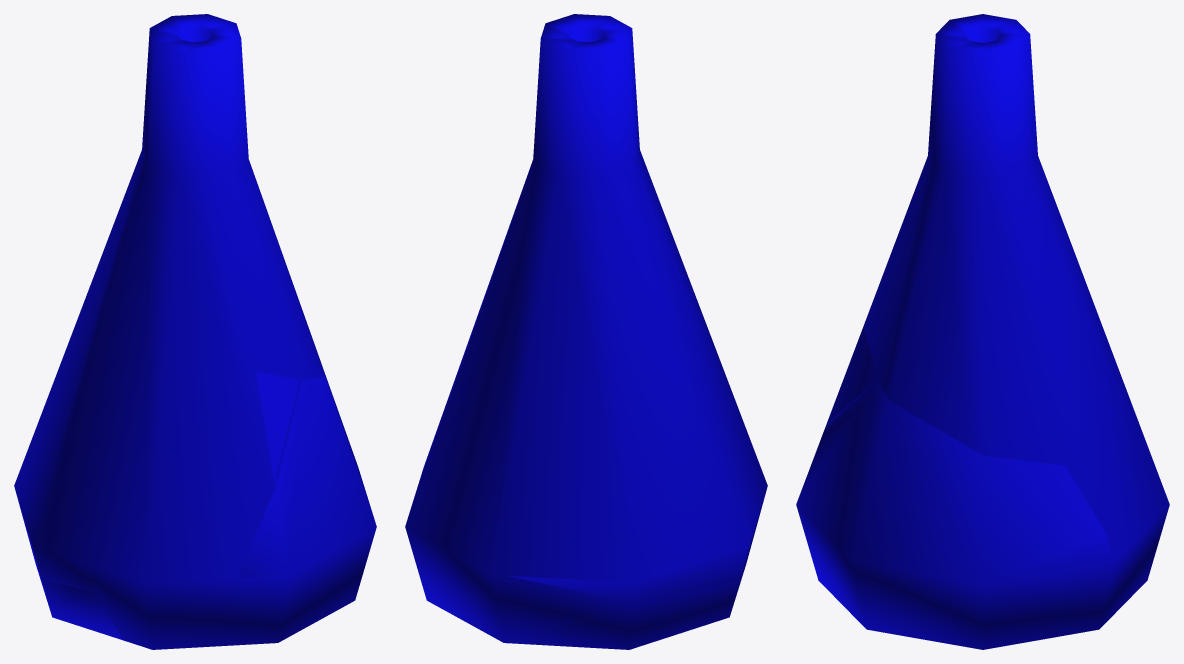
Rendered from Lab_ConicalFlask1.fbx.
The picture shows the model from 3 angles, left to right: view 1: azimuth 30°, elevation 25°; view 2: azimuth 150°, elevation 25°; view 3: azimuth 270°, elevation 25°; orthographic projection.
Visible parts, largest first — view 1: Plane.666, Plane.666_cell.001, Plane.666_cell, Plane.666_cell.003, Plane.666_cell.004, Plane.666_cell.002; view 2: Plane.666, Plane.666_cell.003, Plane.666_cell.002, Plane.666_cell; view 3: Plane.666, Plane.666_cell.001, Plane.666_cell, Plane.666_cell.004.
Boxes of the visible parts, box(x1,y1,x2,y2) form: Plane.666: box(14, 14, 376, 649); Plane.666_cell.001: box(237, 365, 376, 577); Plane.666_cell: box(178, 28, 248, 175); Plane.666_cell.003: box(23, 518, 123, 640); Plane.666_cell.004: box(255, 371, 299, 482); Plane.666_cell.002: box(15, 489, 91, 588); Plane.666: box(405, 14, 767, 642); Plane.666_cell.003: box(504, 551, 748, 649); Plane.666_cell.002: box(508, 520, 757, 602); Plane.666_cell: box(533, 28, 603, 175); Plane.666: box(796, 14, 1169, 649); Plane.666_cell.001: box(796, 380, 1113, 583); Plane.666_cell: box(928, 28, 1037, 178); Plane.666_cell.004: box(826, 326, 877, 423).
Size of the model in its own units: 0.191 by 0.3081 by 0.191.
